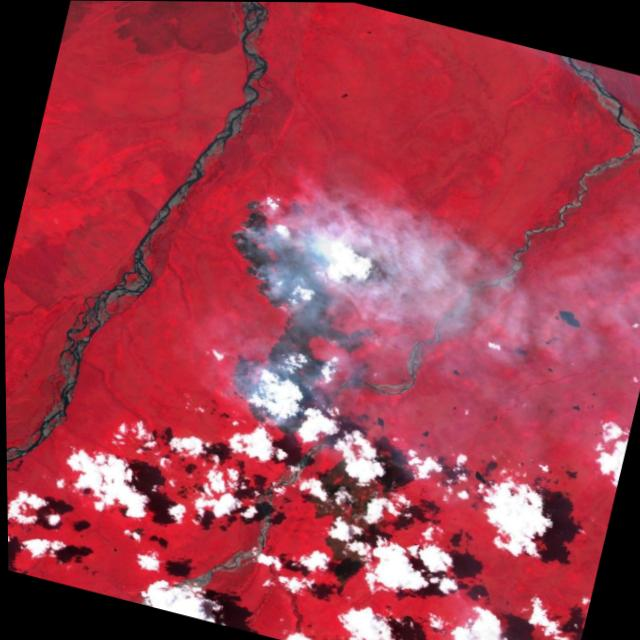fire: (182, 188, 413, 455)
